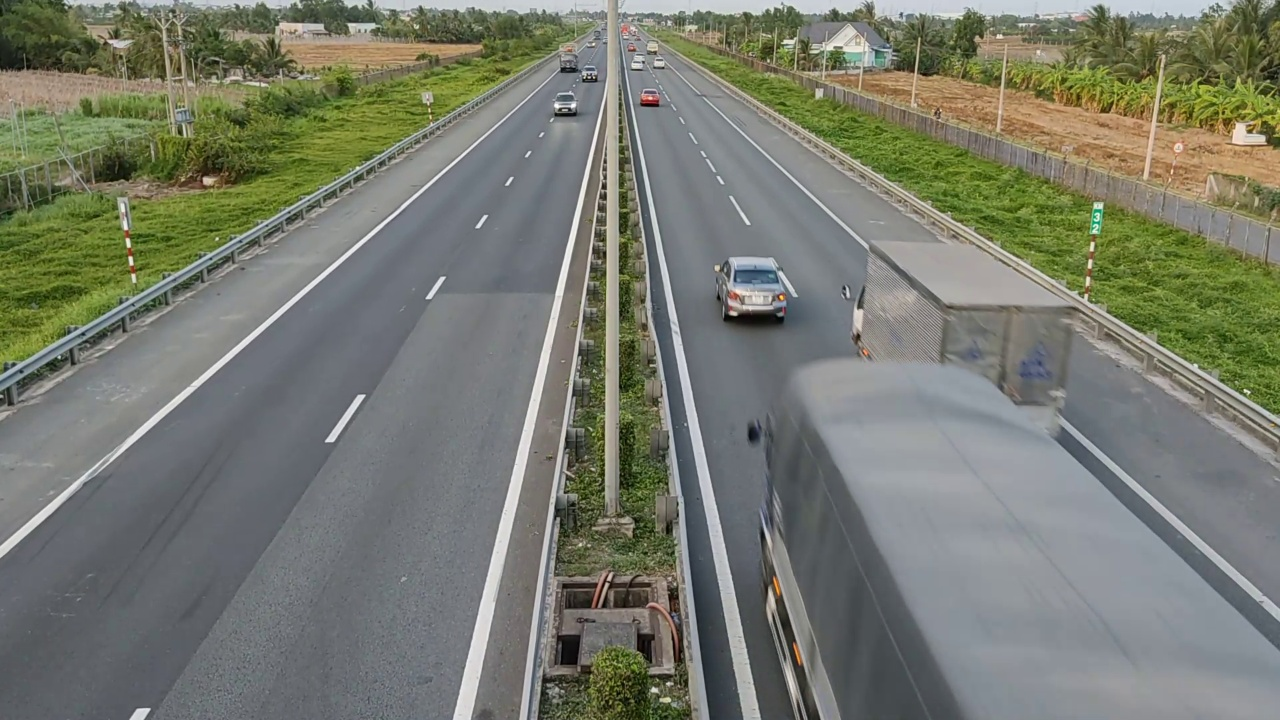car: (714, 255, 790, 321), (552, 91, 579, 116), (639, 87, 661, 107)
truck: (750, 361, 1278, 718)
